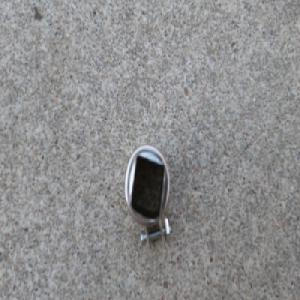MetalPart: (123, 141, 173, 256)
